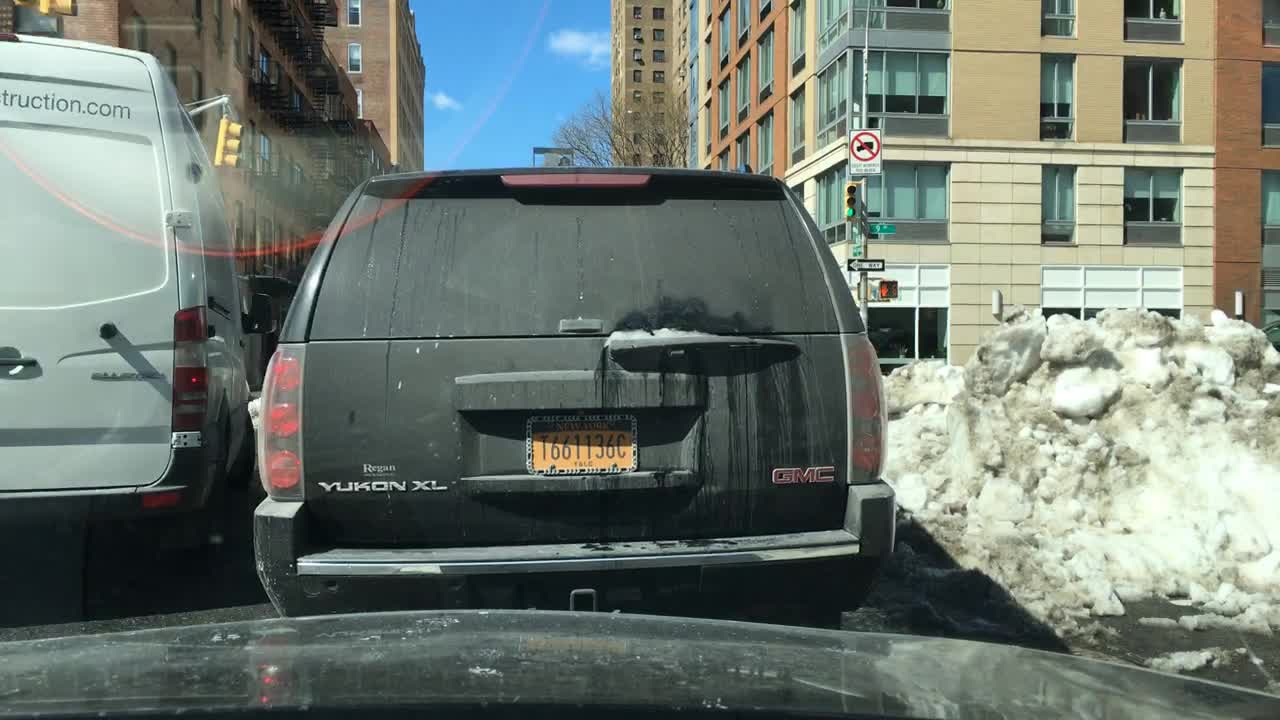car: (247, 163, 896, 626)
traffic light: (217, 116, 240, 170), (845, 184, 861, 222), (43, 0, 76, 16), (876, 280, 899, 301), (854, 280, 875, 301)
traffic sign: (847, 131, 882, 172), (847, 257, 882, 269), (864, 219, 897, 231)
truck: (1, 32, 277, 570)
